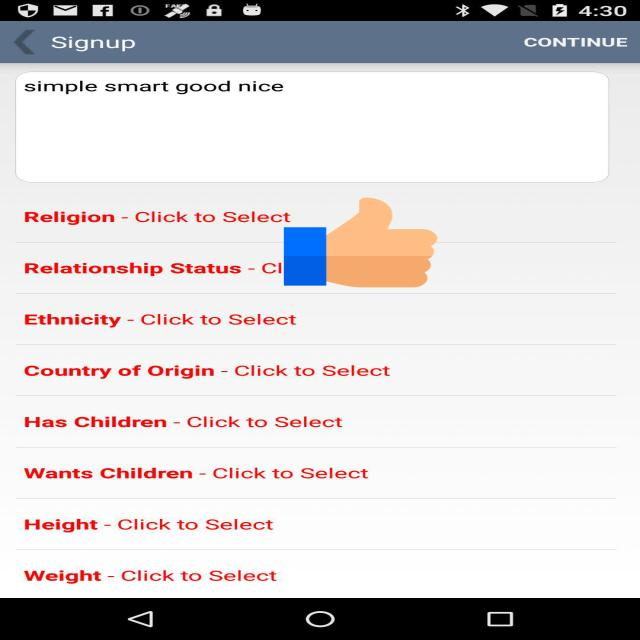privacy zuckering: (284, 195, 437, 290)
